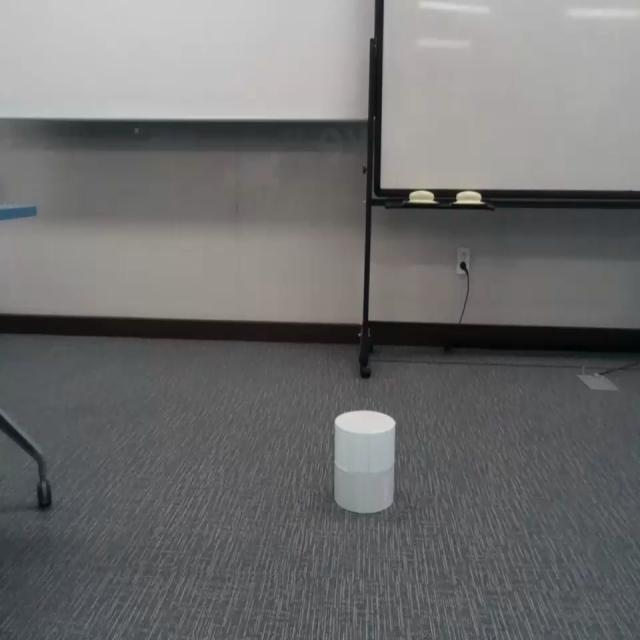cylinder: (334, 409, 396, 514)
